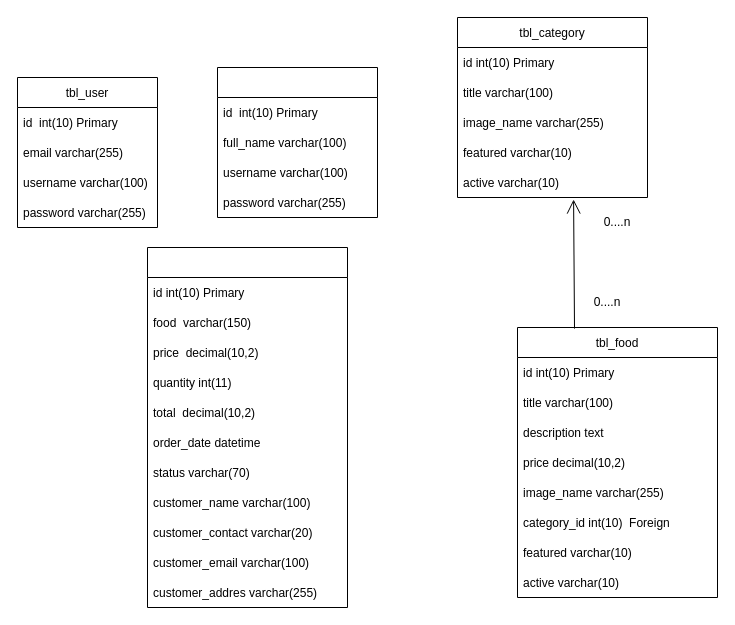
Some shapes in this 735 by 625 pixel diagram are drawn without their labels. The shapes that lost their labels are listed below. From the top down, each one's box as (x1, y1, x2, y2) in pixels, then its label:
(216, 66, 378, 218): tbl_admin
(146, 246, 348, 608): tbl_order
